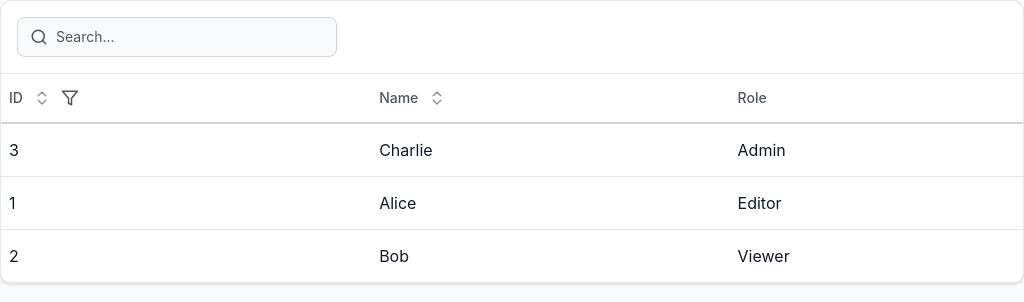
Scenario: DataTable Component › Global search › narrows rows across all columns
Type "Admin" into the field named "search table" at (190, 37), box [56,27,324,47]
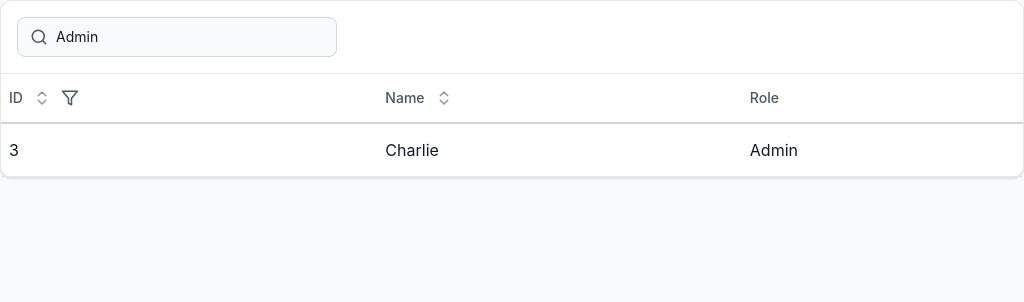
expect the text "Charlie" is shown: met, box [385,140,439,160]
expect the text "Alice" is gone: met
